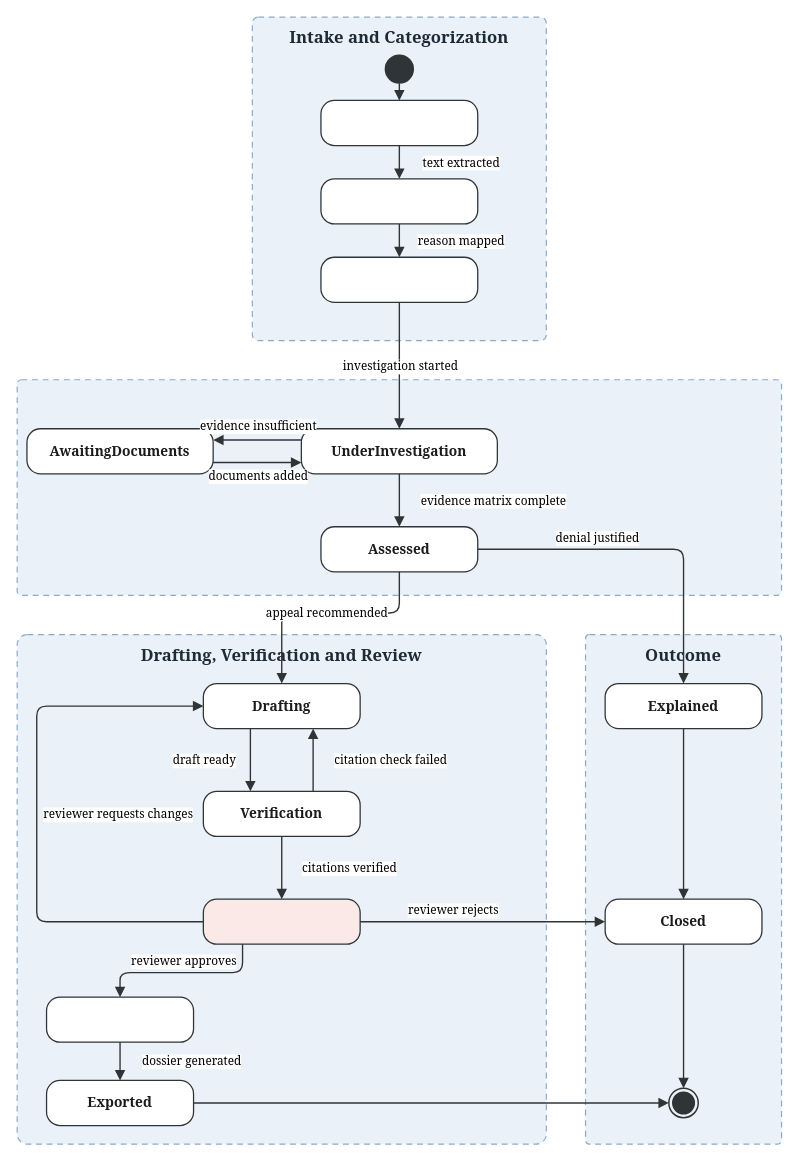
Some shapes in this 800 by 1162 pixel diagram are drawn without their labels. Each missing label, with the box of its shape:
Approved: (45, 996, 194, 1042)
Categorized: (320, 256, 478, 303)
InReview: (202, 898, 360, 944)
Investigation and Assessment: (16, 379, 782, 595)
Parsed: (320, 178, 478, 224)
Uploaded: (320, 99, 478, 146)
